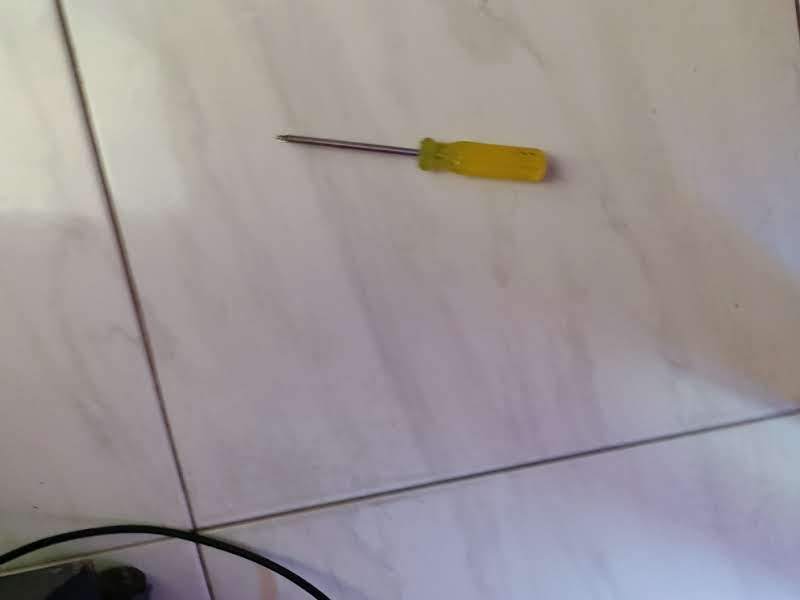Destornillador: (278, 135, 546, 181)
